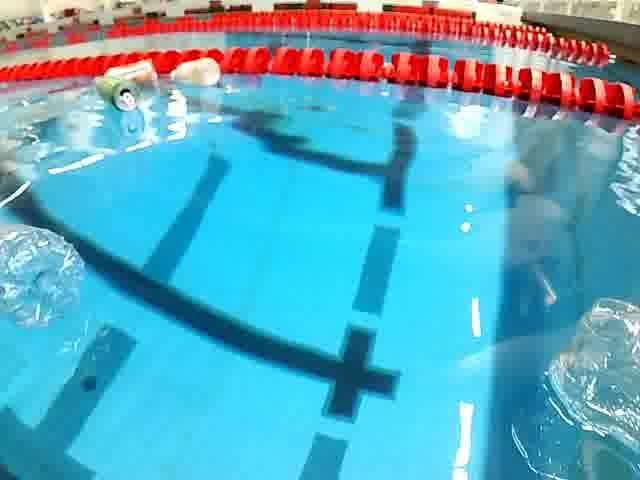Bottle: (538, 294, 640, 457), (0, 219, 105, 329), (160, 59, 228, 92), (103, 53, 165, 88)
Can: (86, 73, 146, 111)
